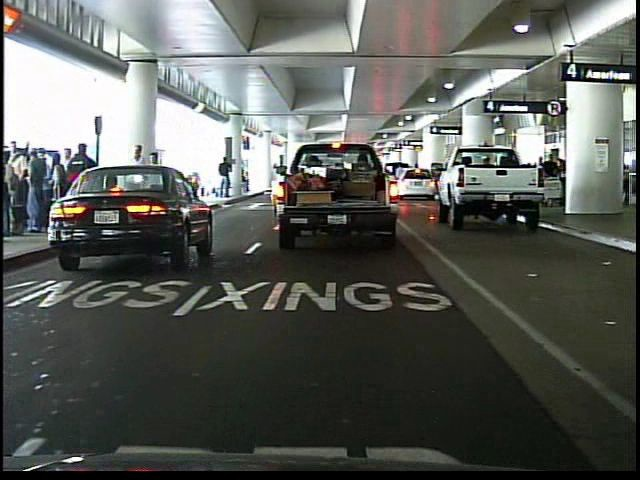person: (65, 139, 100, 237), (124, 142, 149, 231), (144, 147, 168, 228), (216, 156, 234, 199)
